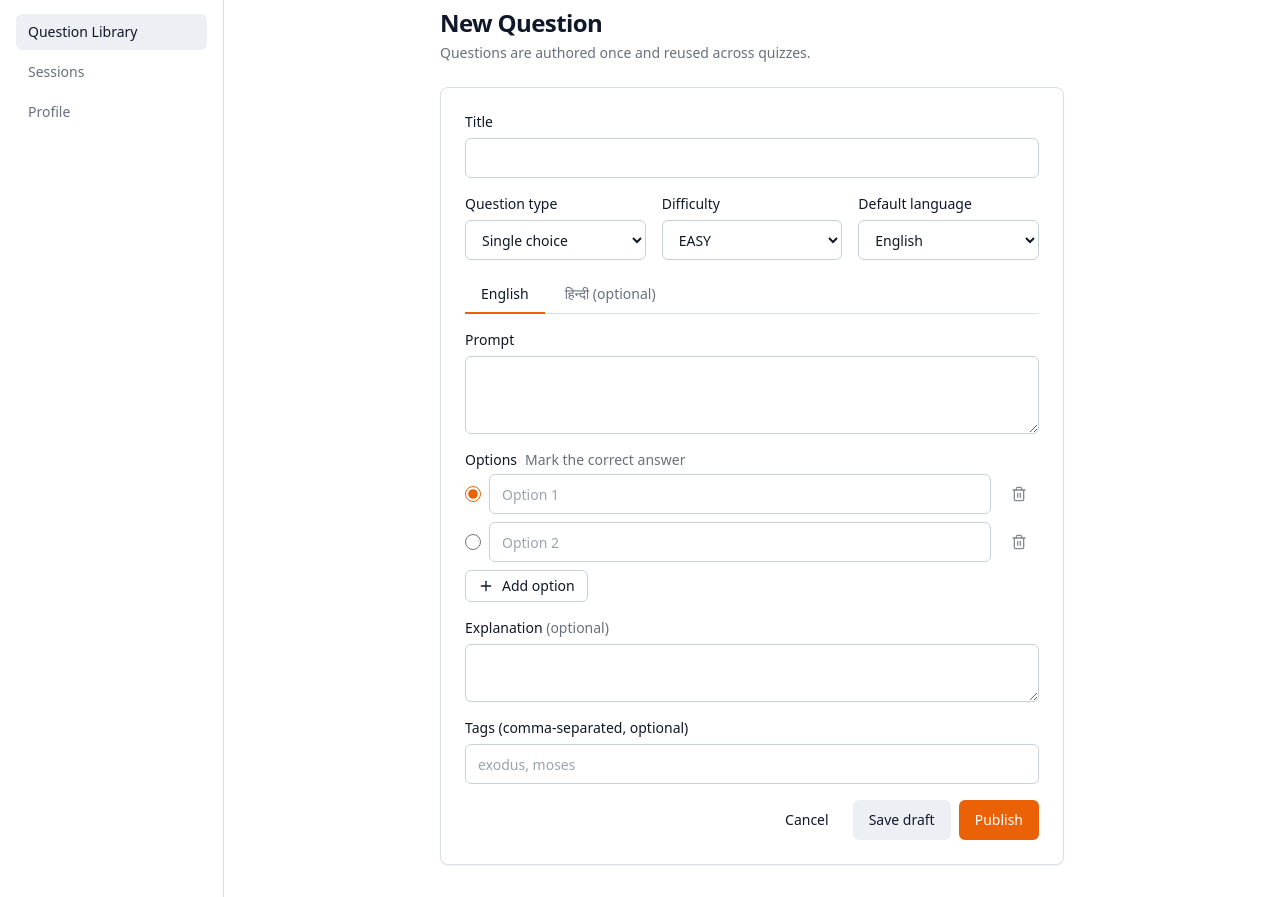
Scenario: CreateQuestionPage › validates per question type before any request is made
(page scrolled)
expect the field labelled "Title" is shown: met, box [465, 138, 1039, 178]
Click the button "Publish": coordinates (999, 820) [959, 800, 1039, 840]
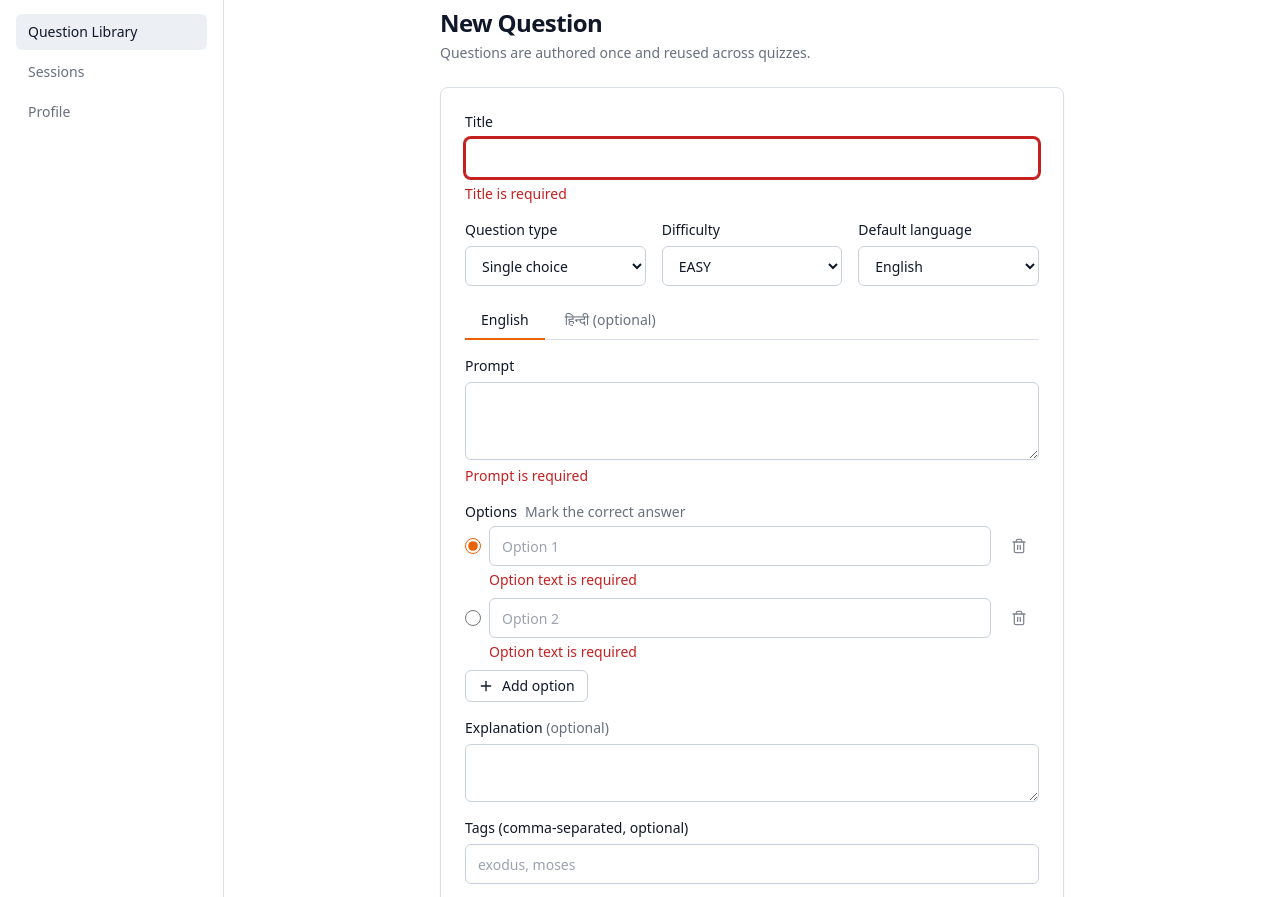
expect the text "Title is required" is shown: met, box [465, 184, 567, 203]
expect the 1st text "Option text is required" is shown: met, box [489, 570, 637, 589]
